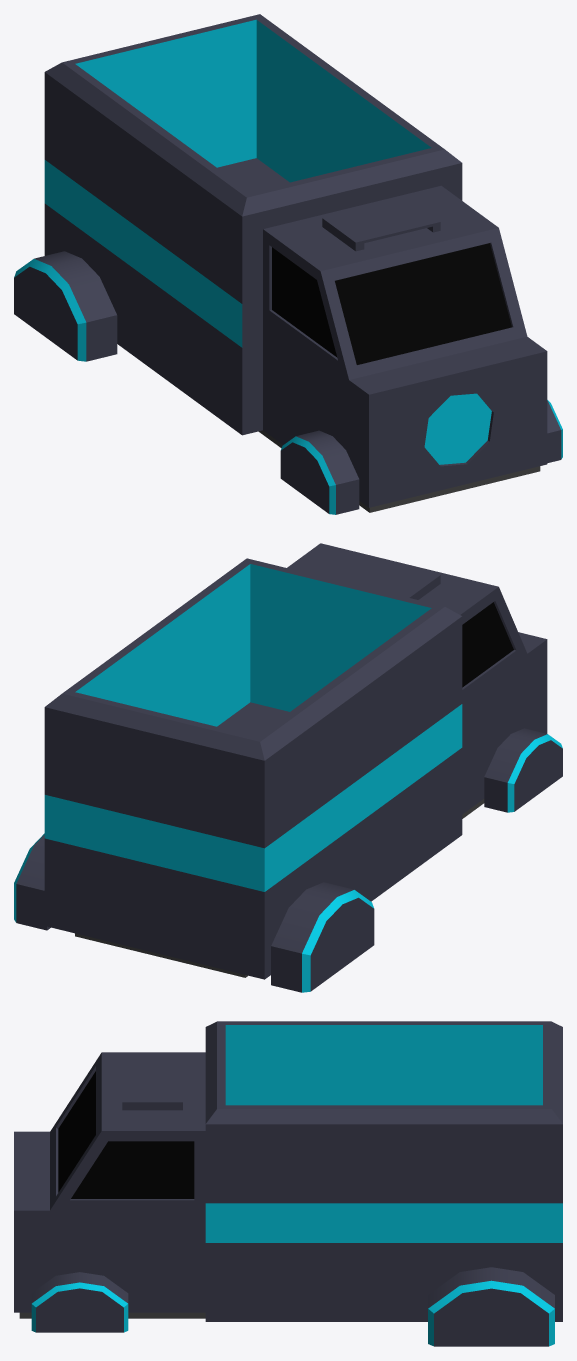
File: truck_2.fbx
3 renders of one model, top to bottom at view 1: azimuth 30°, elevation 25°; view 2: azimuth 150°, elevation 25°; view 3: azimuth 270°, elevation 25°, orthographic. The views are drawn at different scales.
Visible parts, largest first — view 1: polySurface219; view 2: polySurface219; view 3: polySurface219.
Part boxes in pixels (bbox=[...]): polySurface219: bbox=[14, 14, 562, 514]; polySurface219: bbox=[14, 543, 562, 992]; polySurface219: bbox=[14, 1021, 562, 1346].
Size of the model in its own units: 537 by 413 by 952.
